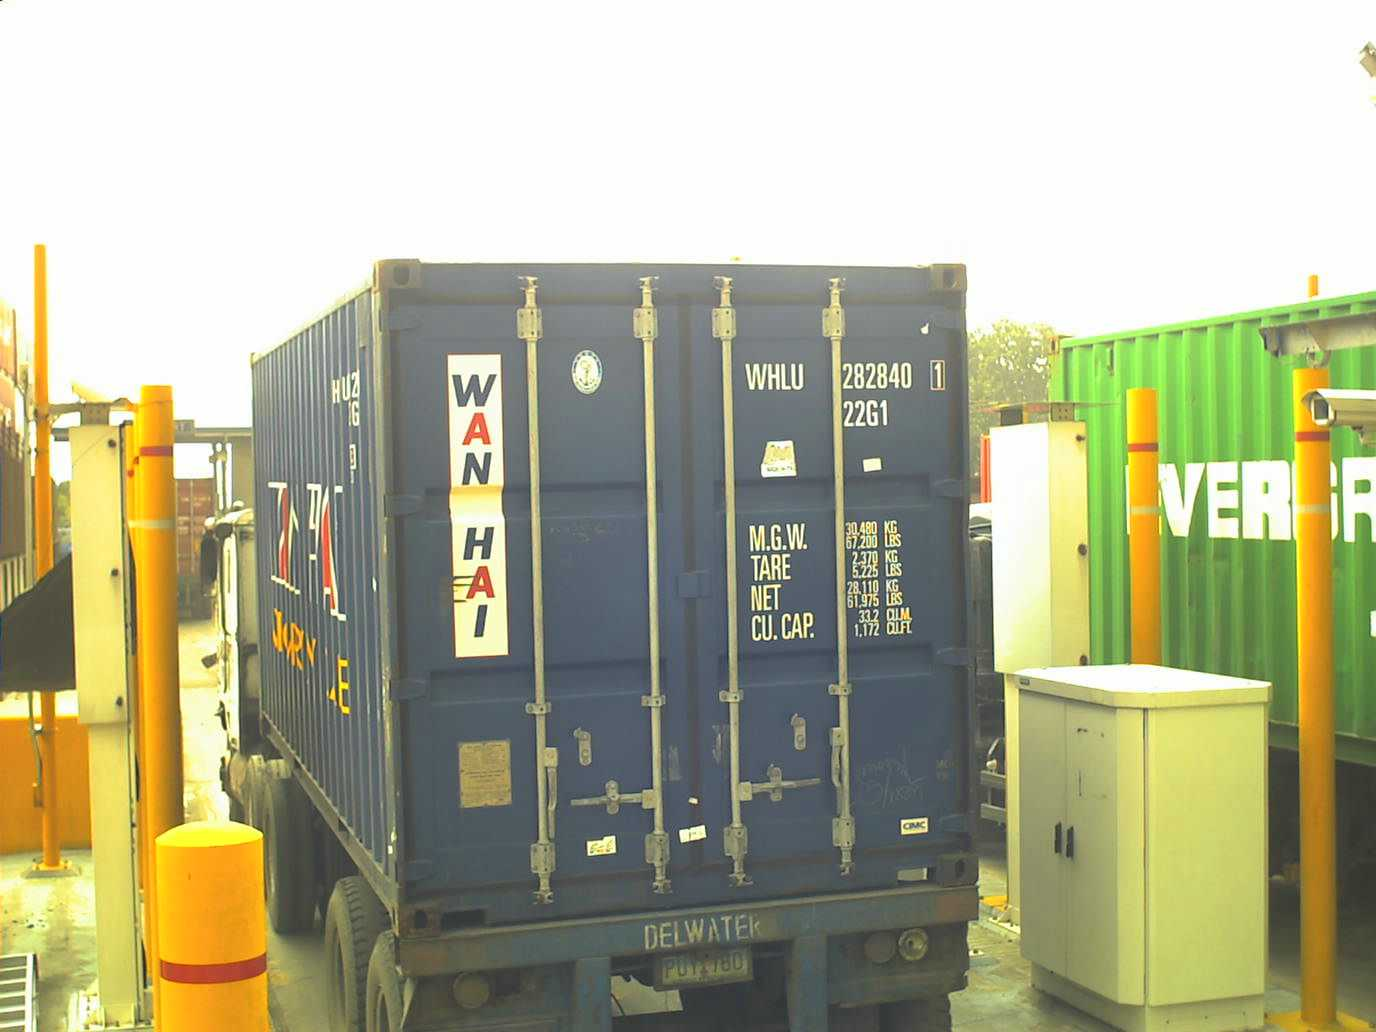container_door: (369, 250, 984, 900)
